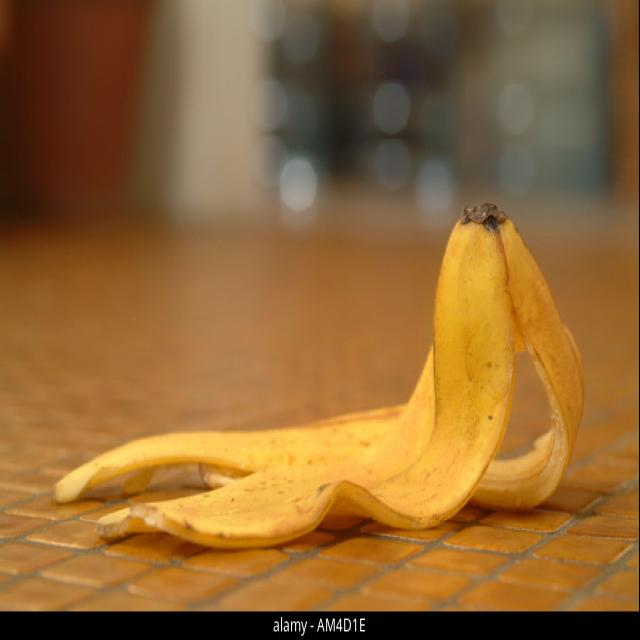Cascara de banano: (61, 214, 577, 542)
